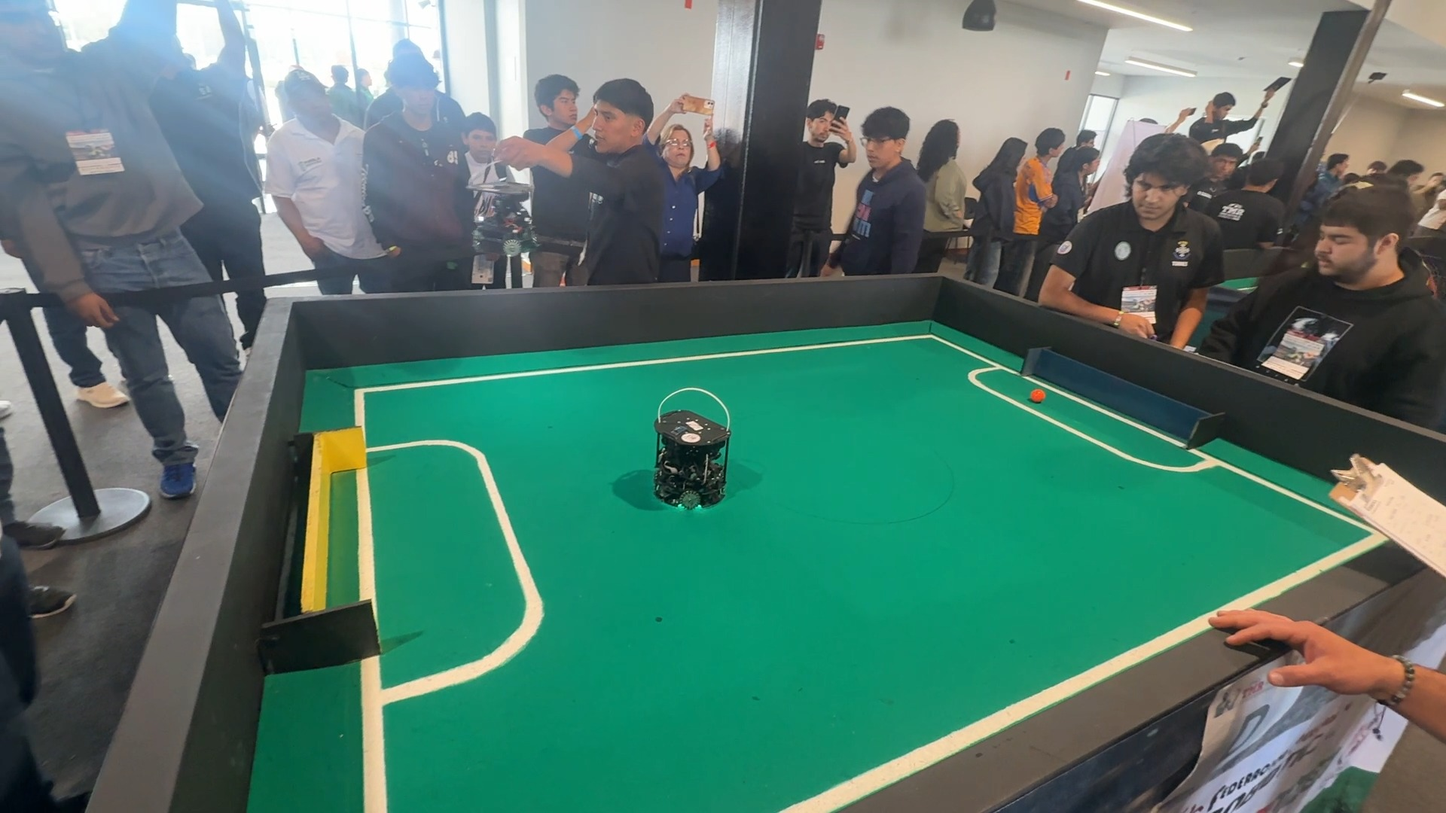Robot: (616, 386, 751, 524)
pelota: (1027, 389, 1050, 408)
